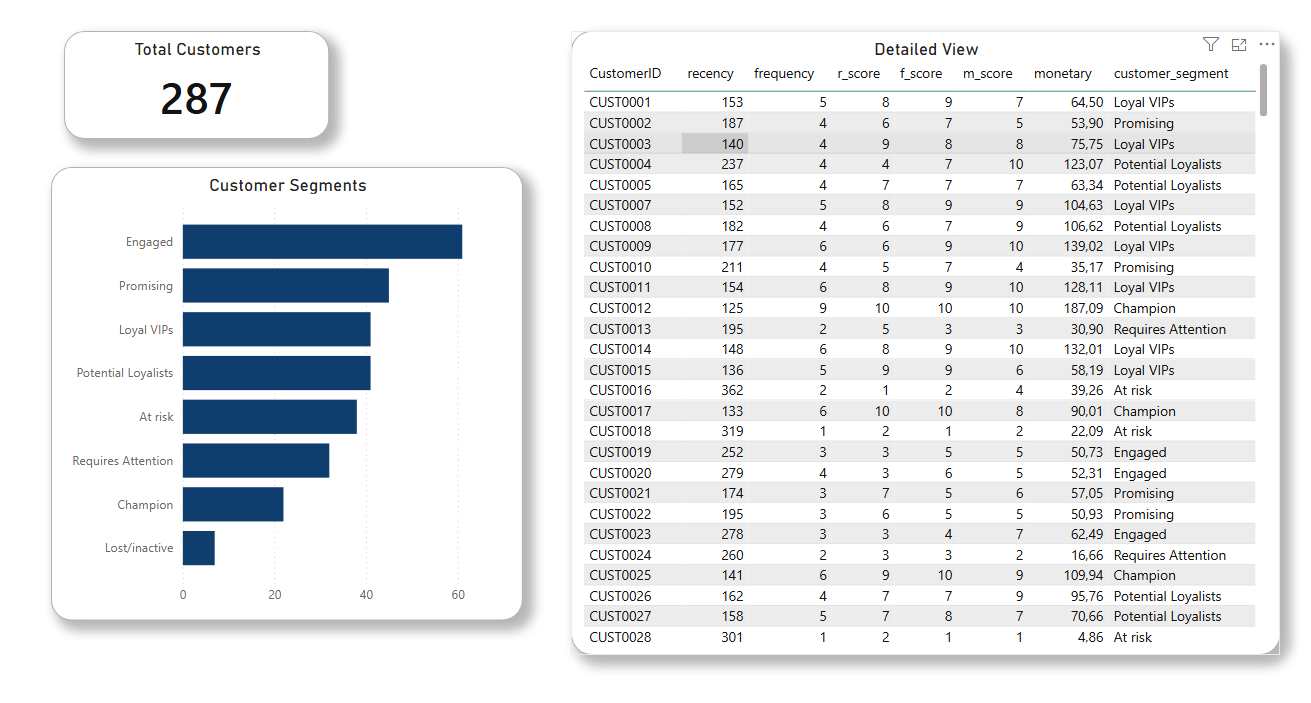

What the dashboard file says about the page in this screenshot:
{"tool":"powerbi","page":{"name":"Page 1","canvas":[1280,720],"ordinal":0},"visuals":[{"type":"cardVisual","title":"Total Customers","fields":{"Data":["Requête1.total_customers"]},"box":[52,36.1,257.7,105],"z":0},{"type":"tableEx","title":"Detailed View","fields":{"Values":["Requête1.CustomerID","Requête1.recency","Requête1.frequency","Requête1.r_score","Requête1.f_score","Requête1.m_score","Requête1.monetary","Requête1.customer_segment"]},"box":[559.9,24.4,690.3,669.1],"z":1000},{"type":"clusteredBarChart","title":"Customer Segments","fields":{"Category":["Requête1.customer_segment"],"Y":["Count(Requête1.CustomerID)"]},"box":[52,195.1,459.1,441.1],"z":2000}]}

Visuals, with their boxes on the page's 1280x720 design canvas (x1, y1, x2, y2). These are canvas units, not pixel positions in the 1311x703 screenshot, which may show the page scaled, cropped or inside an application window:
"Total Customers" cardVisual: box(52, 36, 310, 141)
"Detailed View" tableEx: box(560, 24, 1250, 694)
"Customer Segments" clusteredBarChart: box(52, 195, 511, 636)
